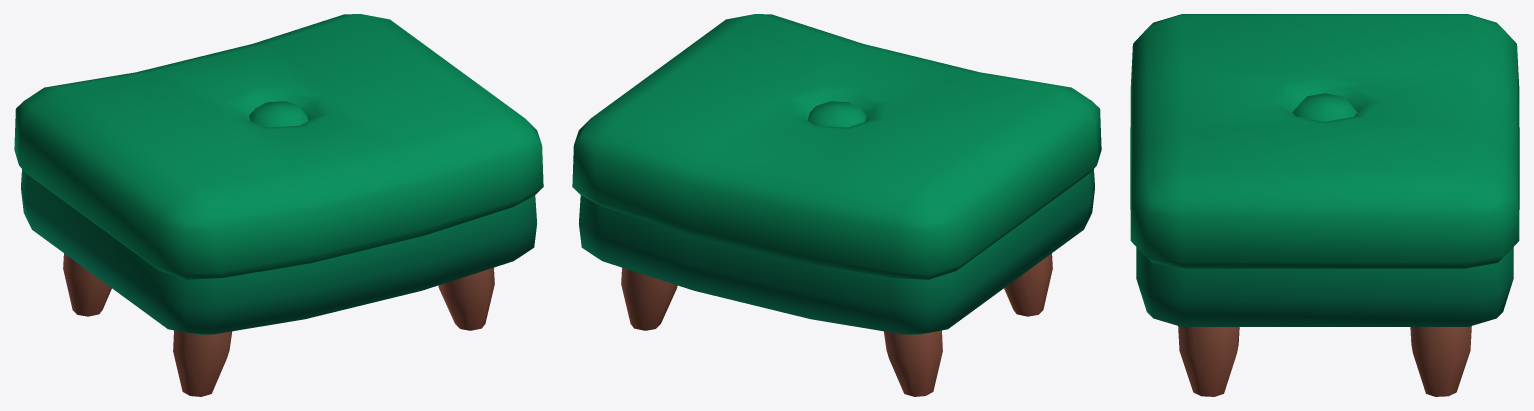
File: footstool_green.obj
3 renders of one model, left to right at view 1: azimuth 30°, elevation 25°; view 2: azimuth 150°, elevation 25°; view 3: azimuth 270°, elevation 25°, orthographic. The views are drawn at different scales.
Visible parts, largest first — view 1: footstool_green; view 2: footstool_green; view 3: footstool_green.
Part boxes in pixels (x1,y1,x2,y2): footstool_green: [14, 14, 543, 396]; footstool_green: [572, 14, 1101, 396]; footstool_green: [1130, 14, 1519, 396].
Size of the model in its own units: 0.8249 by 0.4445 by 0.688.
Materials: 1 (1 with a texture image).
